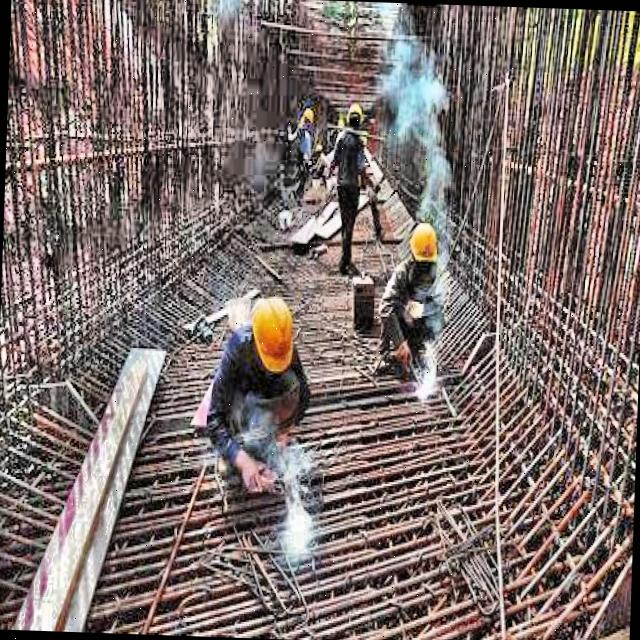helmet: (248, 292, 298, 374), (403, 218, 442, 278), (343, 97, 364, 130)
